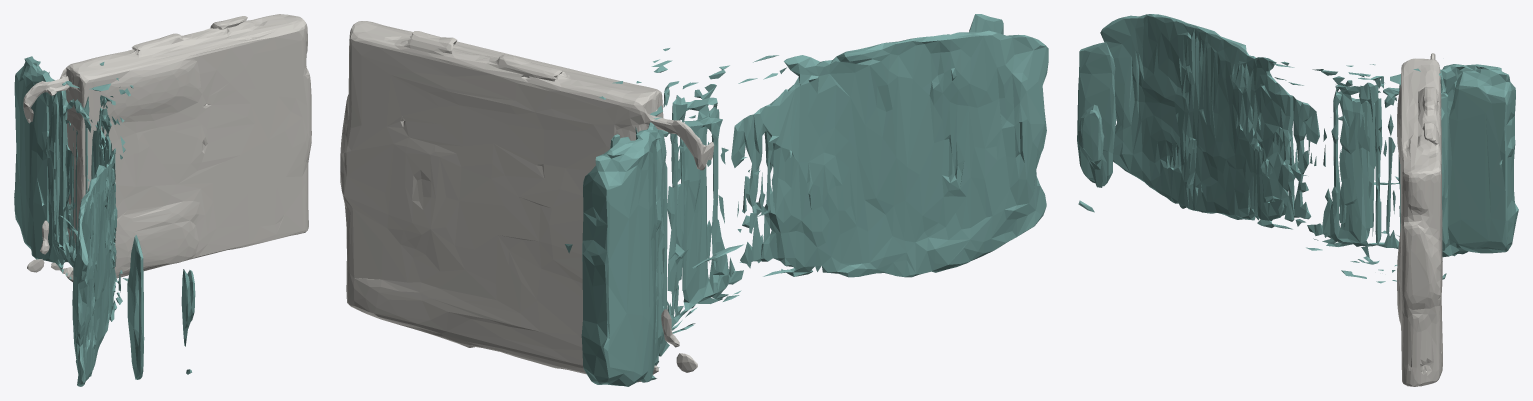
The model's file is ch03b_urdf.glb.
3 renders of one model, left to right at view 1: azimuth 30°, elevation 25°; view 2: azimuth 150°, elevation 25°; view 3: azimuth 270°, elevation 25°, orthographic. The views are drawn at different scales.
Visible parts, largest first — view 1: world; view 2: world; view 3: world.
Boxes of the visible parts, bbox=[...] form: world: bbox=[14, 14, 311, 386]; world: bbox=[340, 14, 1048, 386]; world: bbox=[1077, 14, 1518, 386].
Size of the model in its own units: 1.53 by 0.877 by 1.5.
